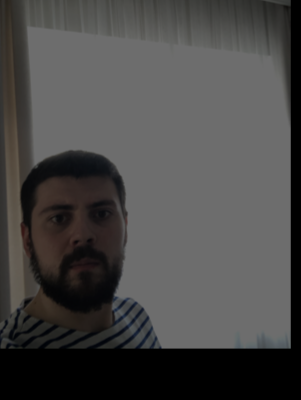without_mask: (29, 194, 124, 312)
